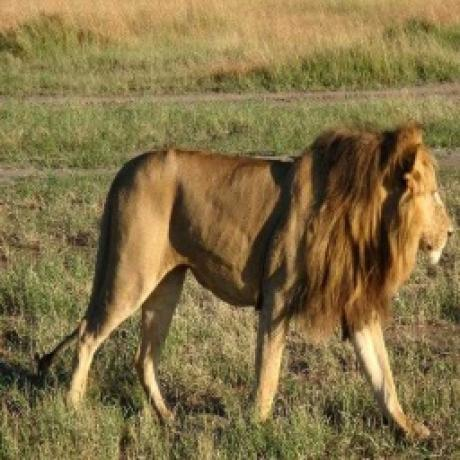Lion: (37, 120, 459, 443)
